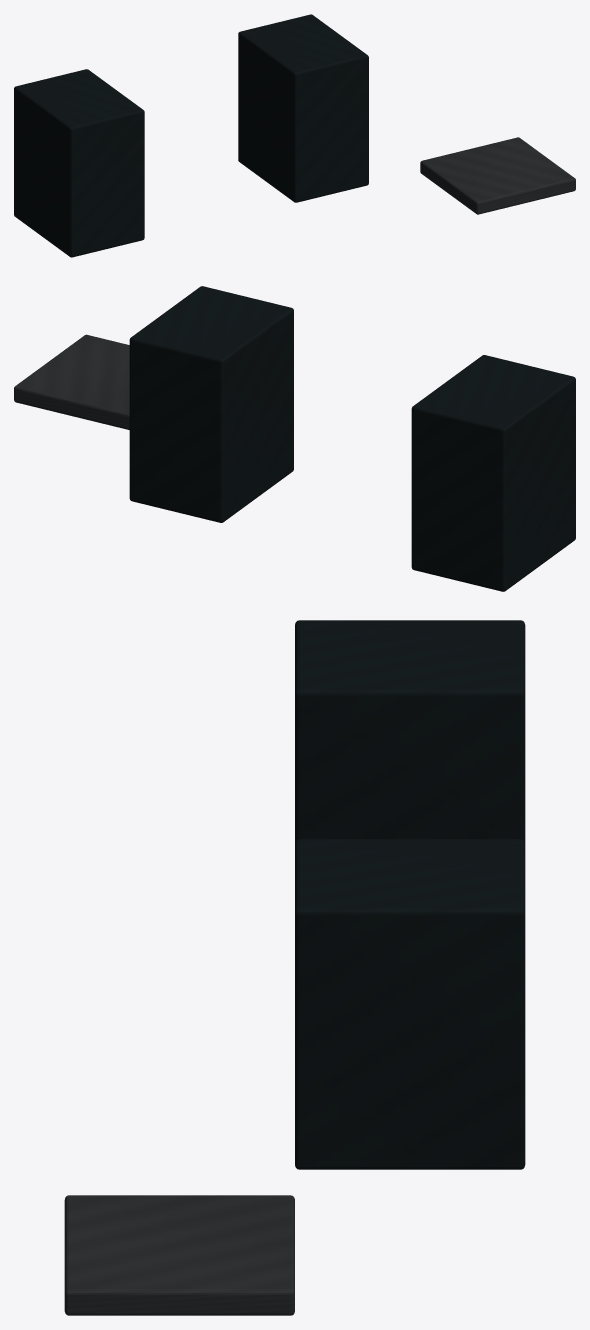
The model's file is STW_INDUSTRIAL_YARD_01_cover.fbx.
3 views of the same model, one above another, from view 1: azimuth 30°, elevation 25°; view 2: azimuth 150°, elevation 25°; view 3: azimuth 270°, elevation 25° (orthographic). The views are drawn at different scales.
Visible parts, largest first — view 1: right_cover_cladding, left_cover_cladding, service_step_skin; view 2: left_cover_cladding, right_cover_cladding, service_step_skin; view 3: right_cover_cladding, left_cover_cladding, service_step_skin.
Part boxes in pixels (box(x1,y1,x2,y2)): right_cover_cladding: box(238, 14, 368, 202); left_cover_cladding: box(14, 69, 144, 257); service_step_skin: box(420, 137, 575, 214); left_cover_cladding: box(411, 355, 575, 591); right_cover_cladding: box(129, 286, 293, 522); service_step_skin: box(14, 334, 129, 429); right_cover_cladding: box(295, 839, 525, 1169); left_cover_cladding: box(295, 620, 525, 843); service_step_skin: box(64, 1195, 294, 1315).
Size of the model in its own units: 900 by 400 by 250.
Materials: 3 (3 with a texture image).
